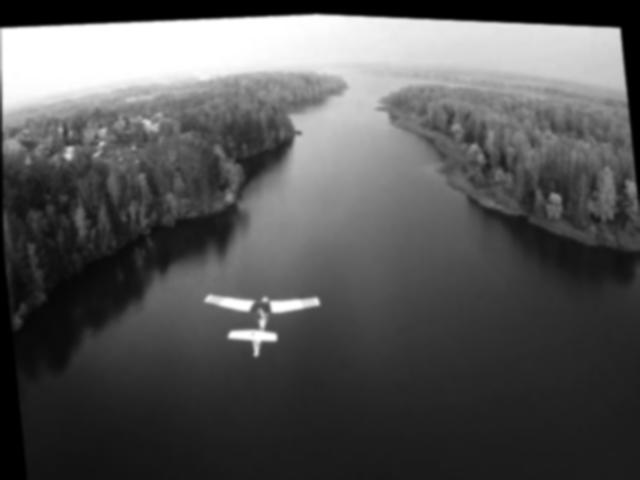hedef: (193, 273, 330, 367)
